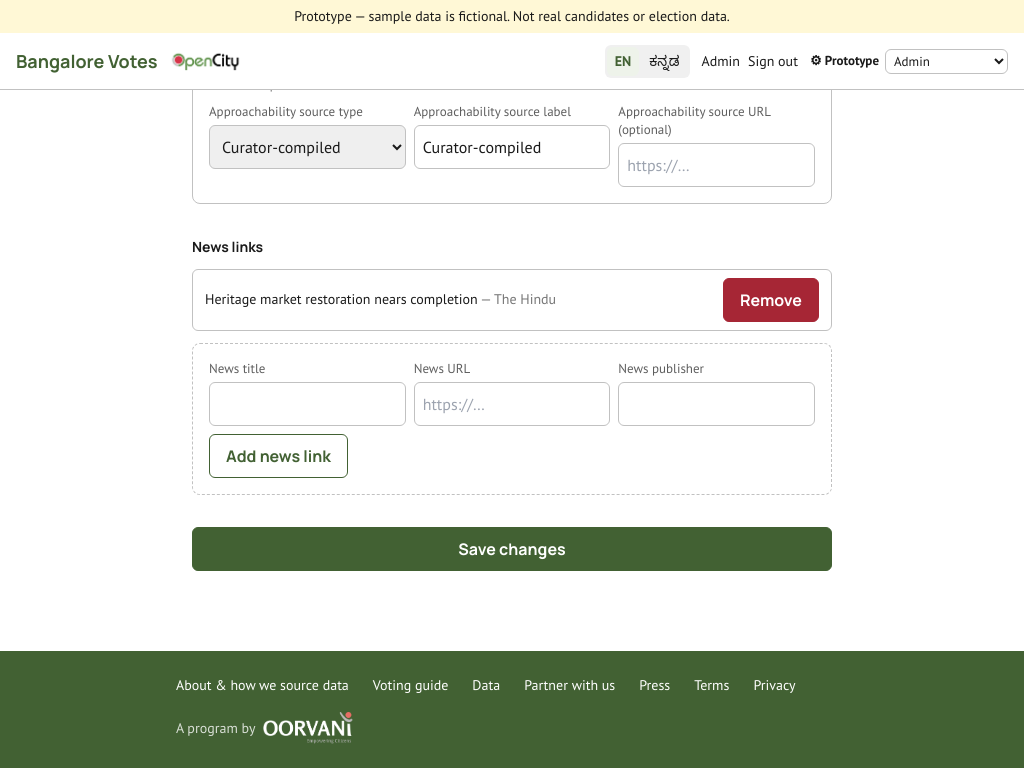
it: admin bypasses ward scope on candidate edit
(page scrolled)
Click the button "Save changes" at (512, 549), box [192,527,832,571]
(page scrolled)
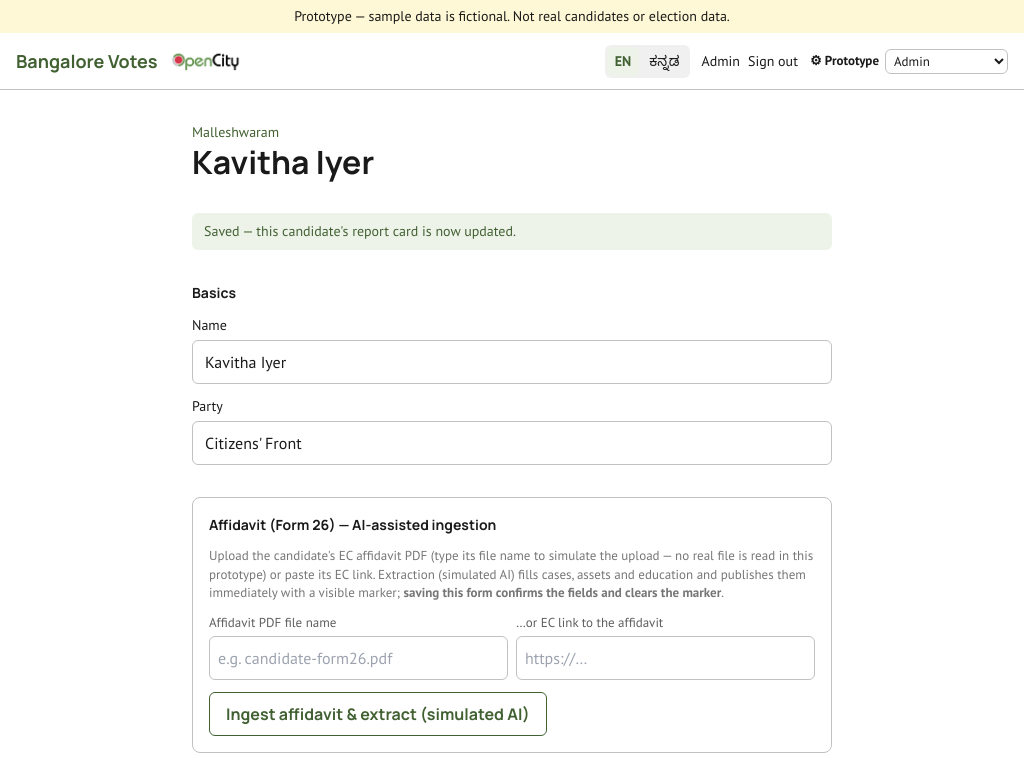
Now the text "Saved — this candidate's report card is now updated." is shown, box [192,213,832,250]
